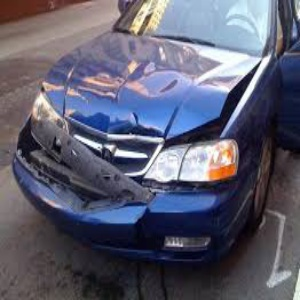bonnet: (62, 39, 239, 133)
bumper: (10, 149, 125, 236)
head_lights: (147, 136, 242, 190)
